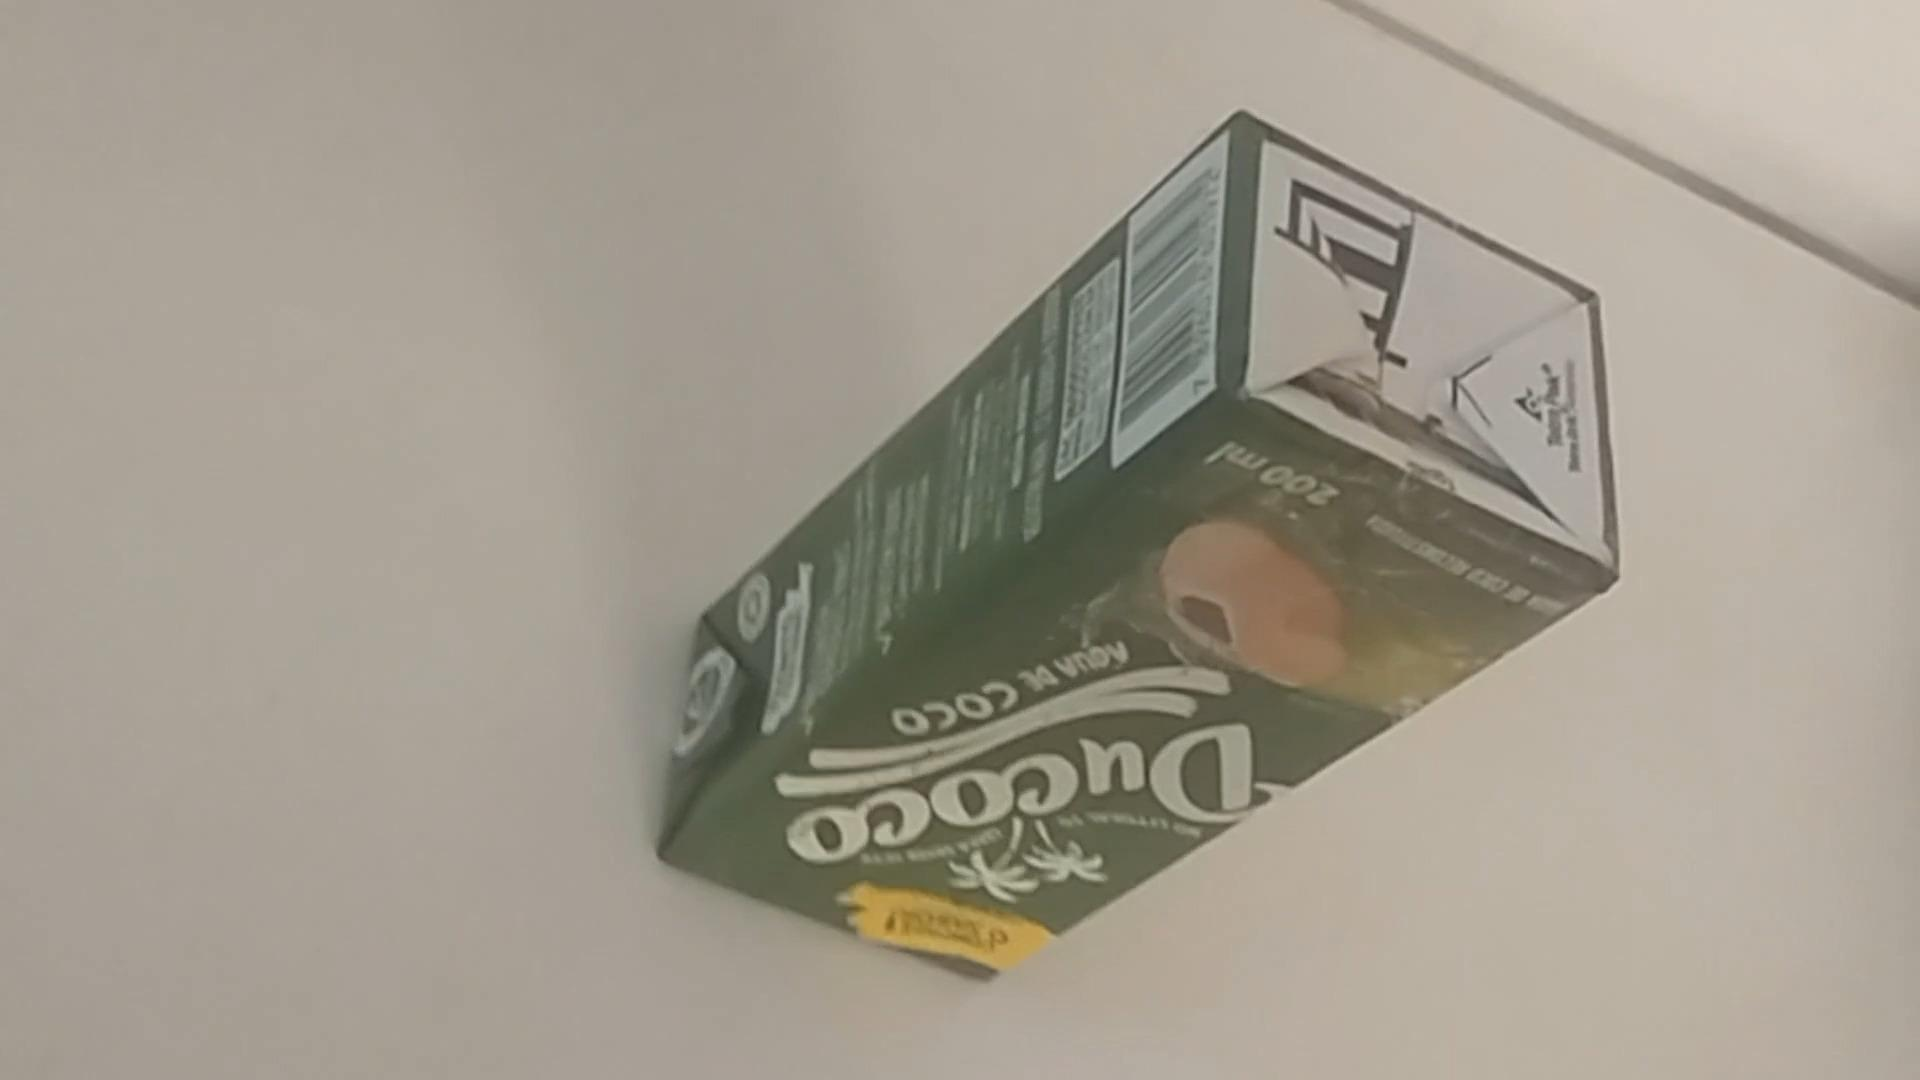coco: (651, 109, 1613, 985)
